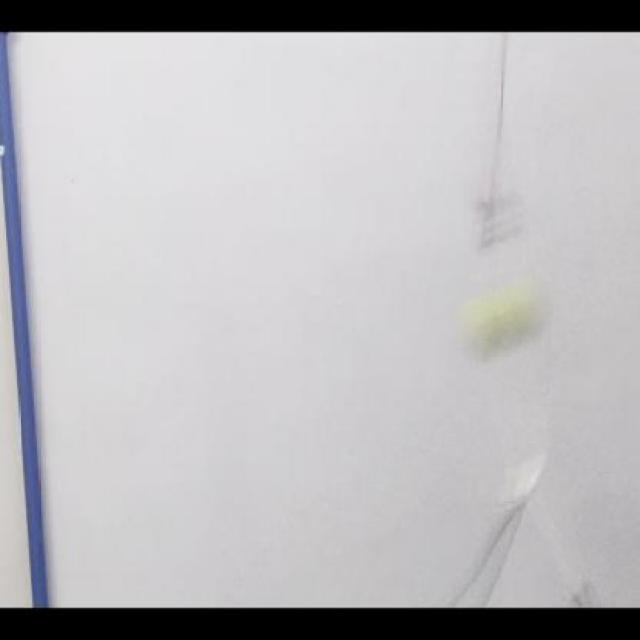baseball: (464, 283, 550, 359)
